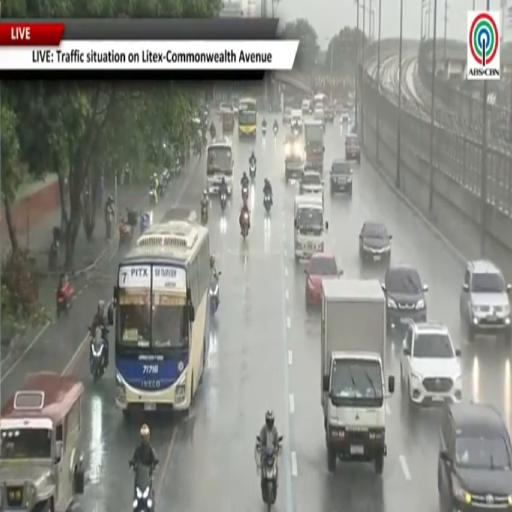bus: (114, 221, 211, 415), (207, 137, 233, 195), (239, 99, 257, 137), (313, 93, 327, 109)
car: (438, 403, 511, 511), (400, 323, 462, 405), (460, 260, 511, 342), (382, 264, 428, 329), (305, 252, 342, 307), (360, 221, 392, 264), (285, 134, 304, 182), (330, 159, 353, 196), (300, 170, 323, 197), (345, 133, 360, 163), (218, 102, 232, 116), (313, 106, 324, 123), (324, 105, 334, 122), (282, 108, 291, 124), (302, 99, 311, 115), (340, 111, 350, 124)
jeepney: (0, 373, 83, 511), (222, 112, 235, 134)
motorcycle: (257, 437, 282, 511), (130, 461, 155, 511), (90, 327, 108, 381), (119, 210, 138, 247), (57, 282, 73, 317), (210, 271, 221, 314), (119, 220, 133, 247), (48, 239, 59, 271), (106, 206, 114, 239), (140, 213, 151, 235), (241, 212, 250, 238), (200, 203, 209, 225), (149, 186, 158, 205), (264, 194, 272, 213), (249, 164, 256, 180), (221, 192, 226, 212), (242, 186, 248, 202), (292, 125, 299, 136), (262, 125, 267, 136), (274, 124, 278, 135)
truck: (321, 279, 395, 474), (304, 120, 324, 172)
